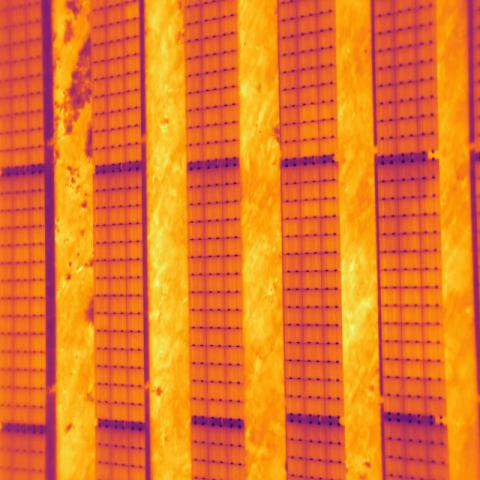fault: (300, 140, 318, 159)
